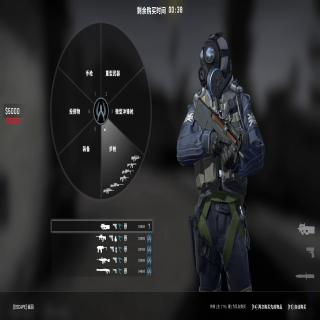CT-Body: (176, 31, 264, 291)
CT-Head: (197, 33, 229, 86)
